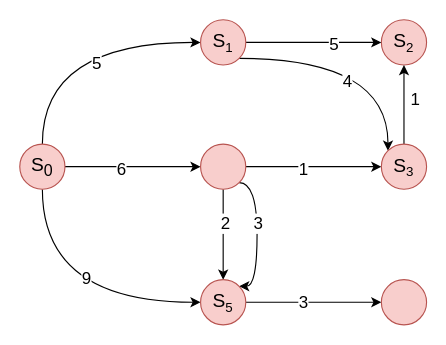
Some shapes in this 446 by 345 pixel diagram are drawn without their labels. The box of each missing label's shape, as (x1, y1, x2, y2) in pixels:
S 4: (199, 143, 246, 189)
S 6: (380, 279, 427, 325)
